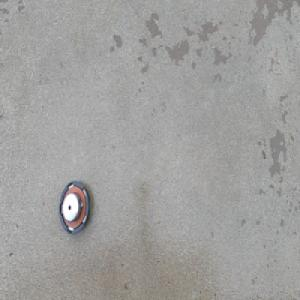FuelCap: (57, 178, 89, 237)
